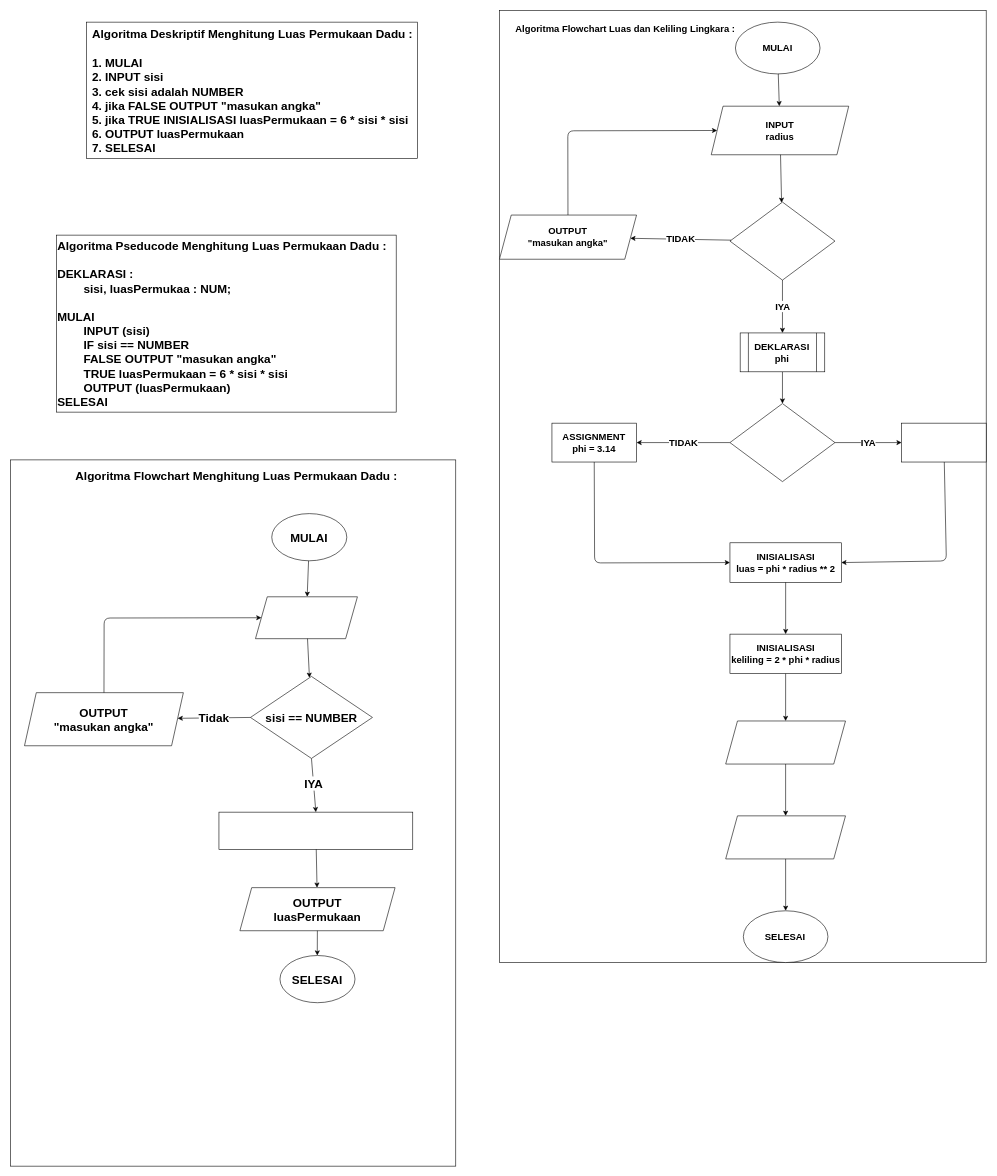
Some shapes in this 997 by 1176 pixel diagram are drawn without their labels. The shapes that lost their labels are listed below. From the top down, each one's box as (x1, y1, x2, y2) in pixels, then its label:
(729, 201, 835, 280): radius == NUMBER
(729, 403, 835, 482): radius % 7 === 0
(901, 423, 986, 462): ASSIGNMENT phi = 22/7
(255, 596, 357, 639): INPUT sisi
(725, 720, 846, 764): OUTPUT luas
(218, 812, 413, 849): INISIALISASI luasPermukaan = 6 * sisi * sisi
(725, 815, 846, 859): OUTPUT keliling
